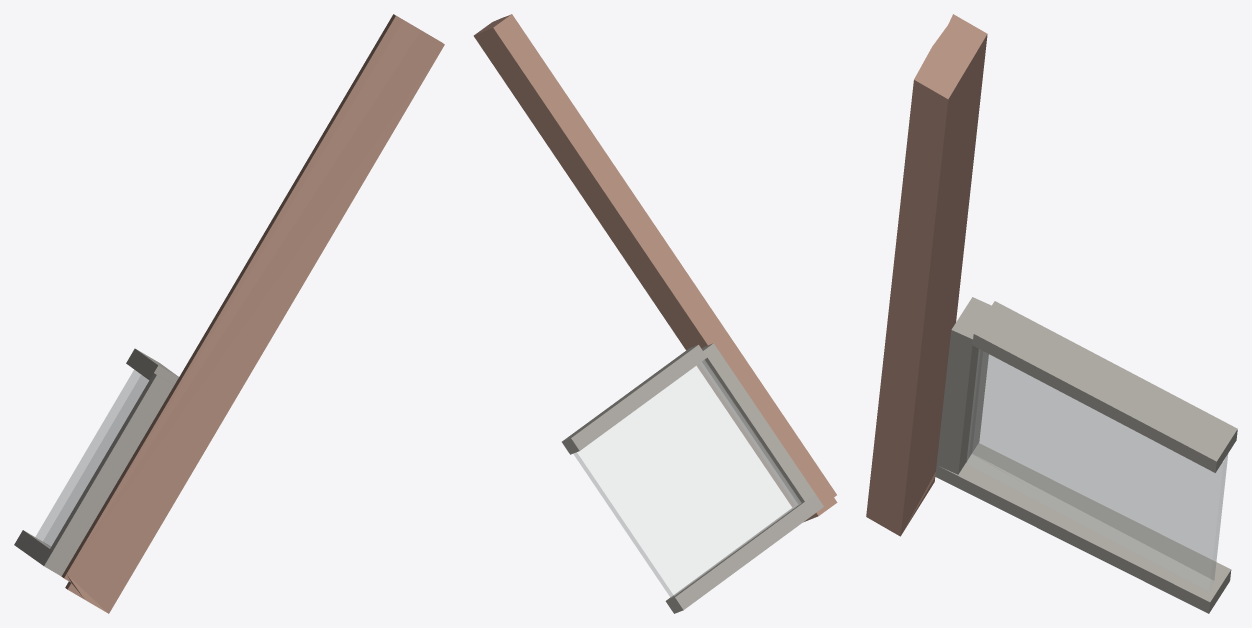
The picture shows the model from 3 angles, left to right: view 1: azimuth 30°, elevation 25°; view 2: azimuth 150°, elevation 25°; view 3: azimuth 270°, elevation 25°; orthographic projection. The views are drawn at different scales.
Parts seen in each view (by area): view 1: mesh; view 2: mesh; view 3: mesh.
Part boxes in pixels (x1=…): mesh: x1=14, y1=14, x2=444, y2=613; mesh: x1=473, y1=14, x2=837, y2=613; mesh: x1=866, y1=14, x2=1237, y2=613.
Size of the model in its own units: 1.75 by 2.29 by 0.9742.
